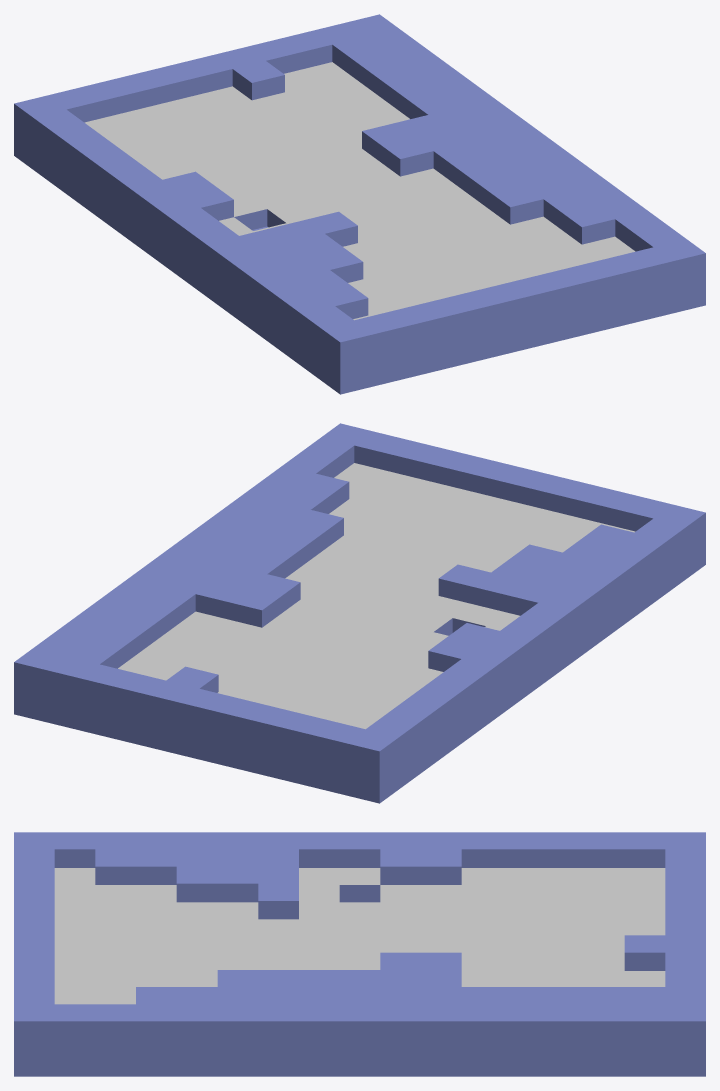
Rendered from 023_platform.fbx.
The picture shows the model from 3 angles, top to bottom: view 1: azimuth 30°, elevation 25°; view 2: azimuth 150°, elevation 25°; view 3: azimuth 270°, elevation 25°; orthographic projection. The views are drawn at different scales.
Visible parts, largest first — view 1: Grid; view 2: Grid; view 3: Grid.
Boxes of the visible parts, left/top/right/bottom form: Grid: left=14, top=14, right=705, bottom=394; Grid: left=14, top=423, right=705, bottom=803; Grid: left=14, top=832, right=705, bottom=1076.
Bounding box in the file's own units: 1100 × 150 × 1700.
